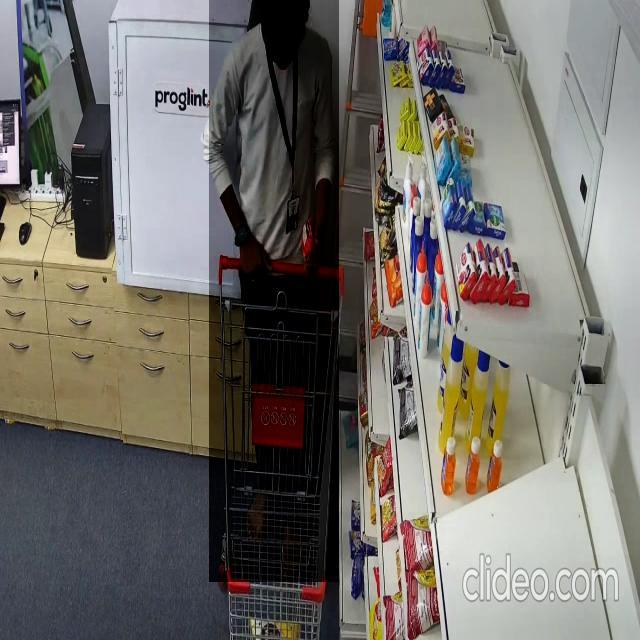normal: (209, 0, 339, 582)
